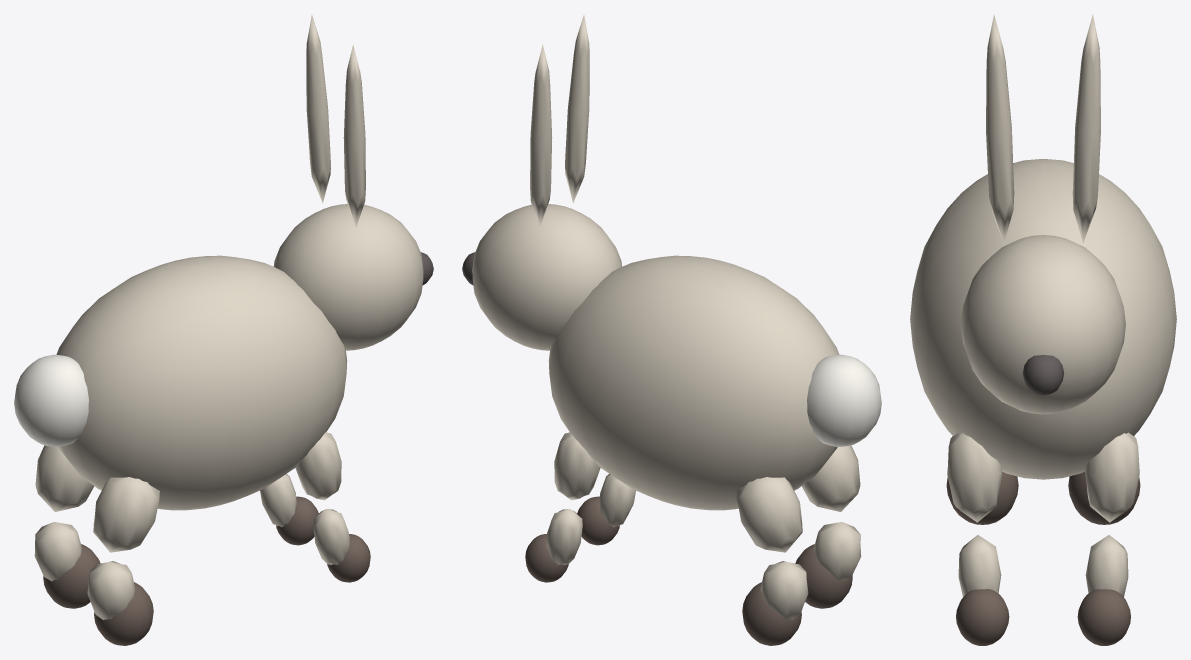
The model's file is hare.glb.
3 renders of one model, left to right at view 1: azimuth 30°, elevation 25°; view 2: azimuth 150°, elevation 25°; view 3: azimuth 270°, elevation 25°, orthographic. The views are drawn at different scales.
Visible parts, largest first — view 1: org_hare; view 2: org_hare; view 3: org_hare.
Part boxes in pixels (x1,y1,x2,y2): org_hare: (14, 15, 433, 645); org_hare: (462, 15, 881, 645); org_hare: (910, 14, 1176, 645).
Bounding box in the file's own units: 0.5166 × 0.6442 × 0.2417.
